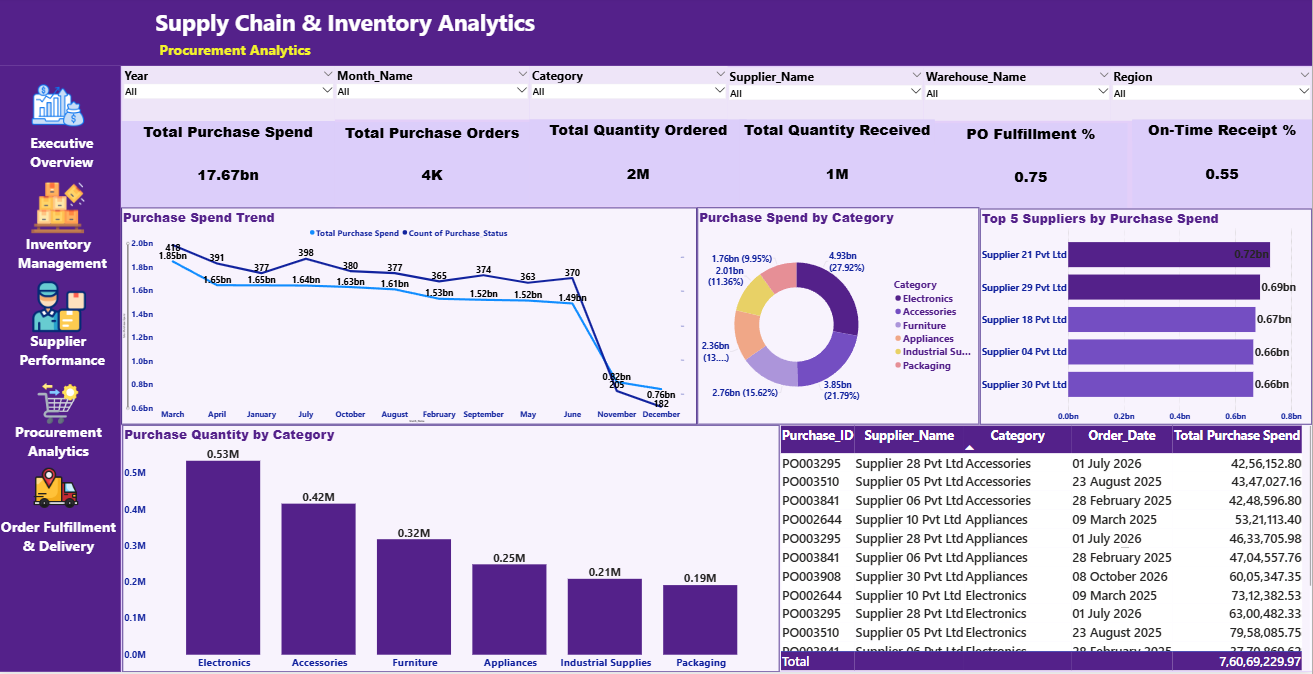

The page's visual inventory and layout, read from the dashboard file:
{"tool":"powerbi","page":{"name":"Page 3","canvas":[7400,3800],"ordinal":2},"visuals":[{"type":"textbox","box":[0,0,7401.7,393.1],"z":0},{"type":"textbox","box":[0,394.9,701.3,3406.3],"z":1000},{"type":"slicer","fields":{"Values":["Dim_Date.Year"]},"box":[710.9,393.1,1196,309.4],"z":2000},{"type":"slicer","fields":{"Values":["Dim_Date.Month_Name"]},"box":[1906.9,393.1,1095.6,301.1],"z":3000},{"type":"slicer","fields":{"Values":["Dim_Products.Category"]},"box":[3002.5,393.1,1112.3,301.1],"z":4000},{"type":"slicer","fields":{"Values":["Dim_Suppliers.Supplier_Name"]},"box":[4114.8,401.4,1104,301.1],"z":5000},{"type":"slicer","fields":{"Values":["Dim_Warehouses.Warehouse_Name"]},"box":[5218.8,401.4,1053.8,301.1],"z":6000},{"type":"slicer","fields":{"Values":["Dim_Warehouses.Region"]},"box":[6272.6,401.4,1129.1,301.1],"z":7000},{"type":"cardVisual","title":"Total Purchase Spend","fields":{"Data":["Fact_PurchaseOrderDetails.Total Purchase Spend"]},"box":[702.5,702.5,1204.3,485.1],"z":8000},{"type":"cardVisual","title":"Total Purchase Orders","fields":{"Data":["Fact_PurchaseOrders.Total Purchase Orders"]},"box":[1906.9,710.9,1095.6,468.4],"z":9000},{"type":"cardVisual","title":"Total Quantity Ordered","fields":{"Data":["Fact_PurchaseOrderDetails.Total Purchase Quantity"]},"box":[3002.5,694.2,1221.1,485.1],"z":10000},{"type":"cardVisual","title":"Total Quantity Received","fields":{"Data":["Fact_PurchaseOrderDetails.Total Received Quantity"]},"box":[4181.8,694.2,1095.6,493.4],"z":11000},{"type":"cardVisual","title":"PO Fulfillment %","fields":{"Data":["Fact_PurchaseOrderDetails.Purchase Order Fulfillment %"]},"box":[5278.7,716.9,1082.5,478],"z":12000},{"type":"cardVisual","title":"On-Time Receipt %","fields":{"Data":["Fact_PurchaseOrderDetails.On-Time Receipt %"]},"box":[6389.7,694.2,1012,493.4],"z":13000},{"type":"lineChart","title":"Purchase Spend Trend","fields":{"Category":["Dim_Date.Month_Name"],"Y":["Fact_PurchaseOrderDetails.Total Purchase Spend"],"Y2":["CountNonNull(Fact_PurchaseOrders.Purchase_Status)"]},"box":[702.9,1187.9,3240.3,1223],"z":14000},{"type":"donutChart","title":"Purchase Spend by Category","fields":{"Y":["Fact_PurchaseOrderDetails.Total Purchase Spend"],"Category":["Dim_Products.Category"]},"box":[3944.5,1185.2,1586.4,1222.2],"z":15000},{"type":"barChart","title":"Top 5 Suppliers by Purchase Spend ","fields":{"Category":["Dim_Suppliers.Supplier_Name"],"Y":["Fact_PurchaseOrderDetails.Total Purchase Spend"]},"box":[5531.7,1194.9,1869.7,1216],"z":16000},{"type":"columnChart","title":"Purchase Quantity by Category","fields":{"Category":["Dim_Products.Category"],"Y":["Fact_PurchaseOrderDetails.Total Purchase Quantity"]},"box":[709.9,2410.9,3697.2,1391.7],"z":17000},{"type":"tableEx","fields":{"Values":["Fact_PurchaseOrderDetails.Purchase_ID","Dim_Suppliers.Supplier_Name","Dim_Products.Category","Fact_PurchaseOrders.Order_Date","Fact_PurchaseOrderDetails.Total Purchase Spend"]},"box":[4407.1,2410.9,2994.3,1384.7],"z":18000},{"type":"image","box":[196.8,463.9,302.2,302.2],"z":18001},{"type":"image","box":[196.8,1040.3,302.2,302.2],"z":18002},{"type":"image","box":[196.8,2171.9,302.2,239],"z":18003},{"type":"image","box":[203.8,1595.6,302.2,302.2],"z":18004},{"type":"image","box":[168.7,2635.8,337.4,260.1],"z":18005}]}

Visuals, with their boxes in screenshot pixels (x1, y1, x2, y2), scaled from the page's 7400x3800 canvas onto the 1313x674 screenshot:
textbox: (0,0,1312,70)
textbox: (0,70,124,673)
slicer - Dim_Date.Year: (126,70,338,125)
slicer - Dim_Date.Month_Name: (338,70,533,123)
slicer - Dim_Products.Category: (533,70,730,123)
slicer - Dim_Suppliers.Supplier_Name: (730,71,926,125)
slicer - Dim_Warehouses.Warehouse_Name: (926,71,1113,125)
slicer - Dim_Warehouses.Region: (1113,71,1312,125)
"Total Purchase Spend" cardVisual: (125,125,338,211)
"Total Purchase Orders" cardVisual: (338,126,533,209)
"Total Quantity Ordered" cardVisual: (533,123,749,209)
"Total Quantity Received" cardVisual: (742,123,936,211)
"PO Fulfillment %" cardVisual: (937,127,1129,212)
"On-Time Receipt %" cardVisual: (1134,123,1312,211)
"Purchase Spend Trend" lineChart: (125,211,700,428)
"Purchase Spend by Category" donutChart: (700,210,981,427)
"Top 5 Suppliers by Purchase Spend " barChart: (982,212,1312,428)
"Purchase Quantity by Category" columnChart: (126,428,782,673)
tableEx - Fact_PurchaseOrderDetails.Purchase_ID x Dim_Suppliers.Supplier_Name: (782,428,1312,673)
image: (35,82,89,136)
image: (35,185,89,238)
image: (35,385,89,428)
image: (36,283,90,337)
image: (30,468,90,514)
